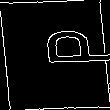P_W: (9, 35, 101, 75)
